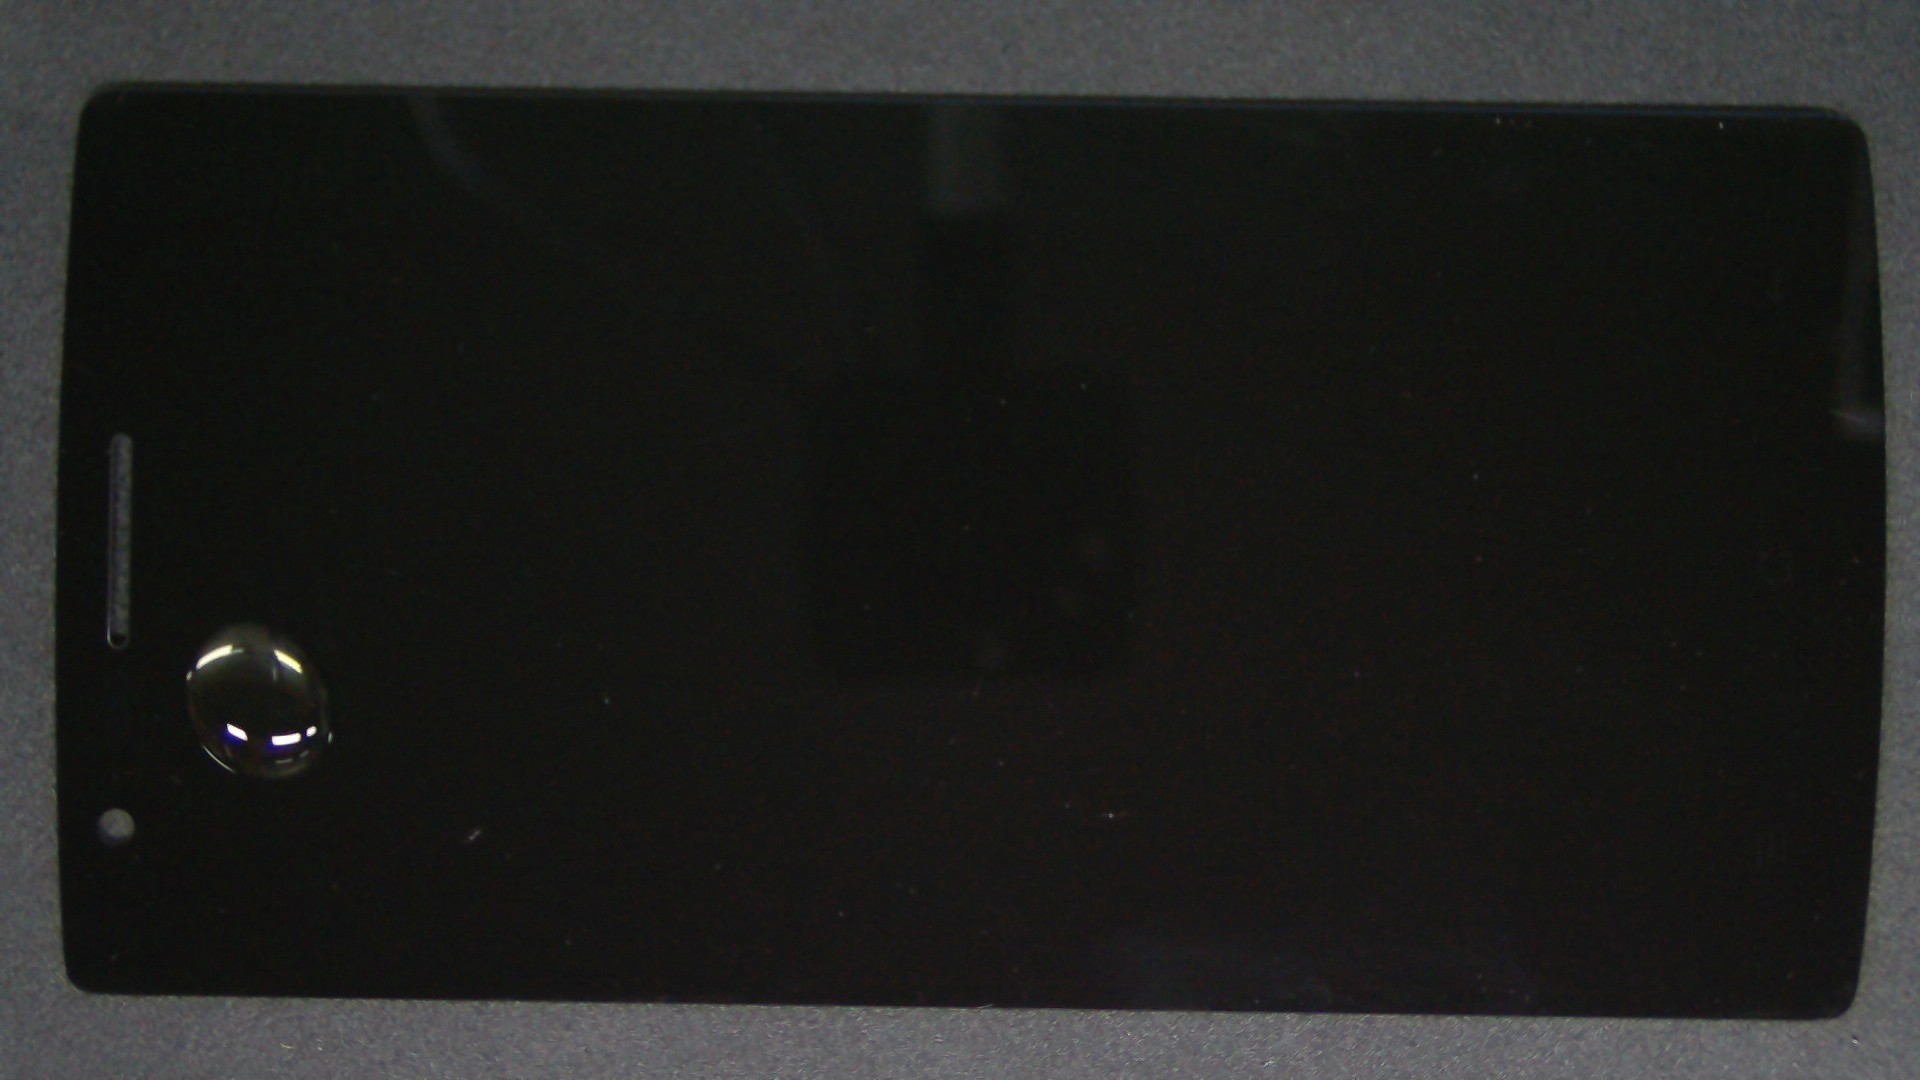oil: (123, 311, 364, 936)
